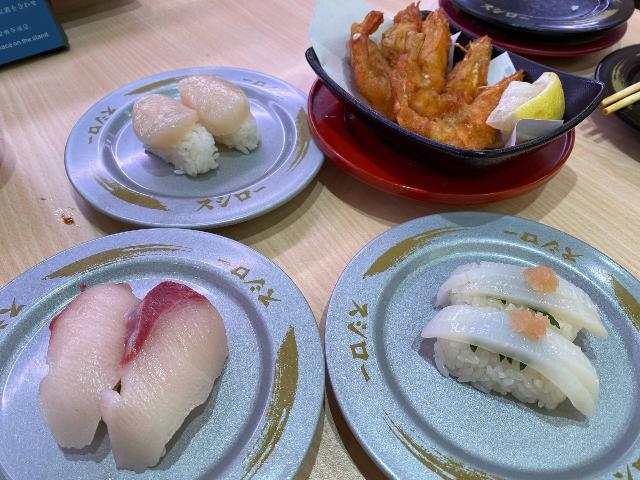janwhite: (335, 212, 640, 480), (0, 251, 322, 468), (307, 36, 560, 212), (60, 106, 320, 216), (483, 0, 640, 27)
